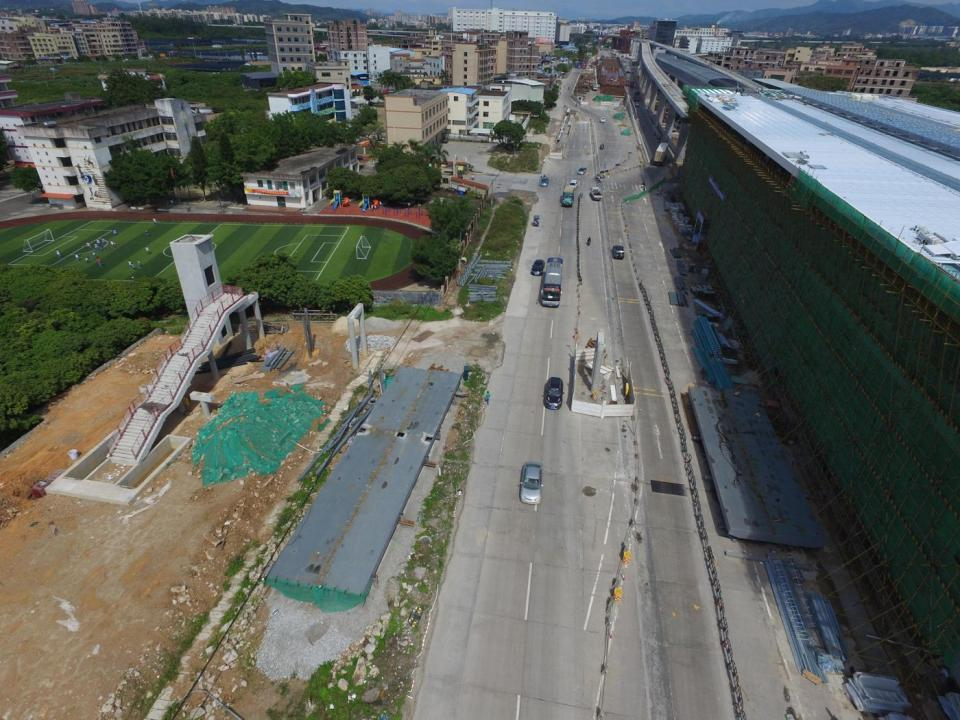bus: (541, 257, 562, 307), (533, 216, 539, 226)
car: (519, 462, 542, 503), (541, 377, 563, 410), (531, 260, 544, 276), (612, 245, 624, 258), (540, 177, 548, 188), (568, 180, 577, 189), (578, 167, 586, 174), (600, 117, 605, 122), (635, 103, 640, 106)
truck: (654, 142, 668, 166), (561, 185, 575, 207), (590, 187, 602, 201), (633, 91, 640, 102)
